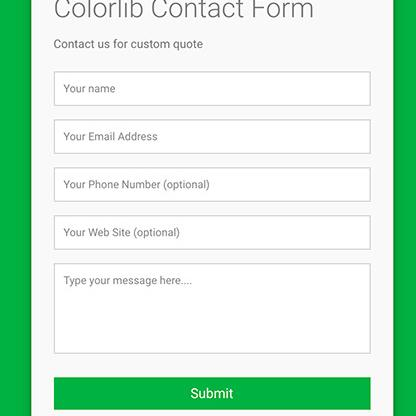button: (52, 376, 371, 411)
field: (52, 262, 373, 356), (53, 69, 373, 107), (51, 167, 374, 203), (51, 215, 374, 251), (53, 119, 374, 155)
